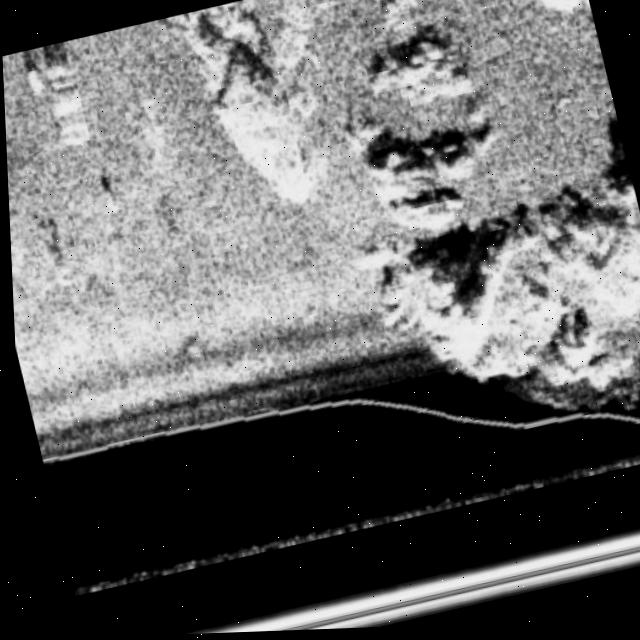bedrock group: (170, 0, 640, 492)
